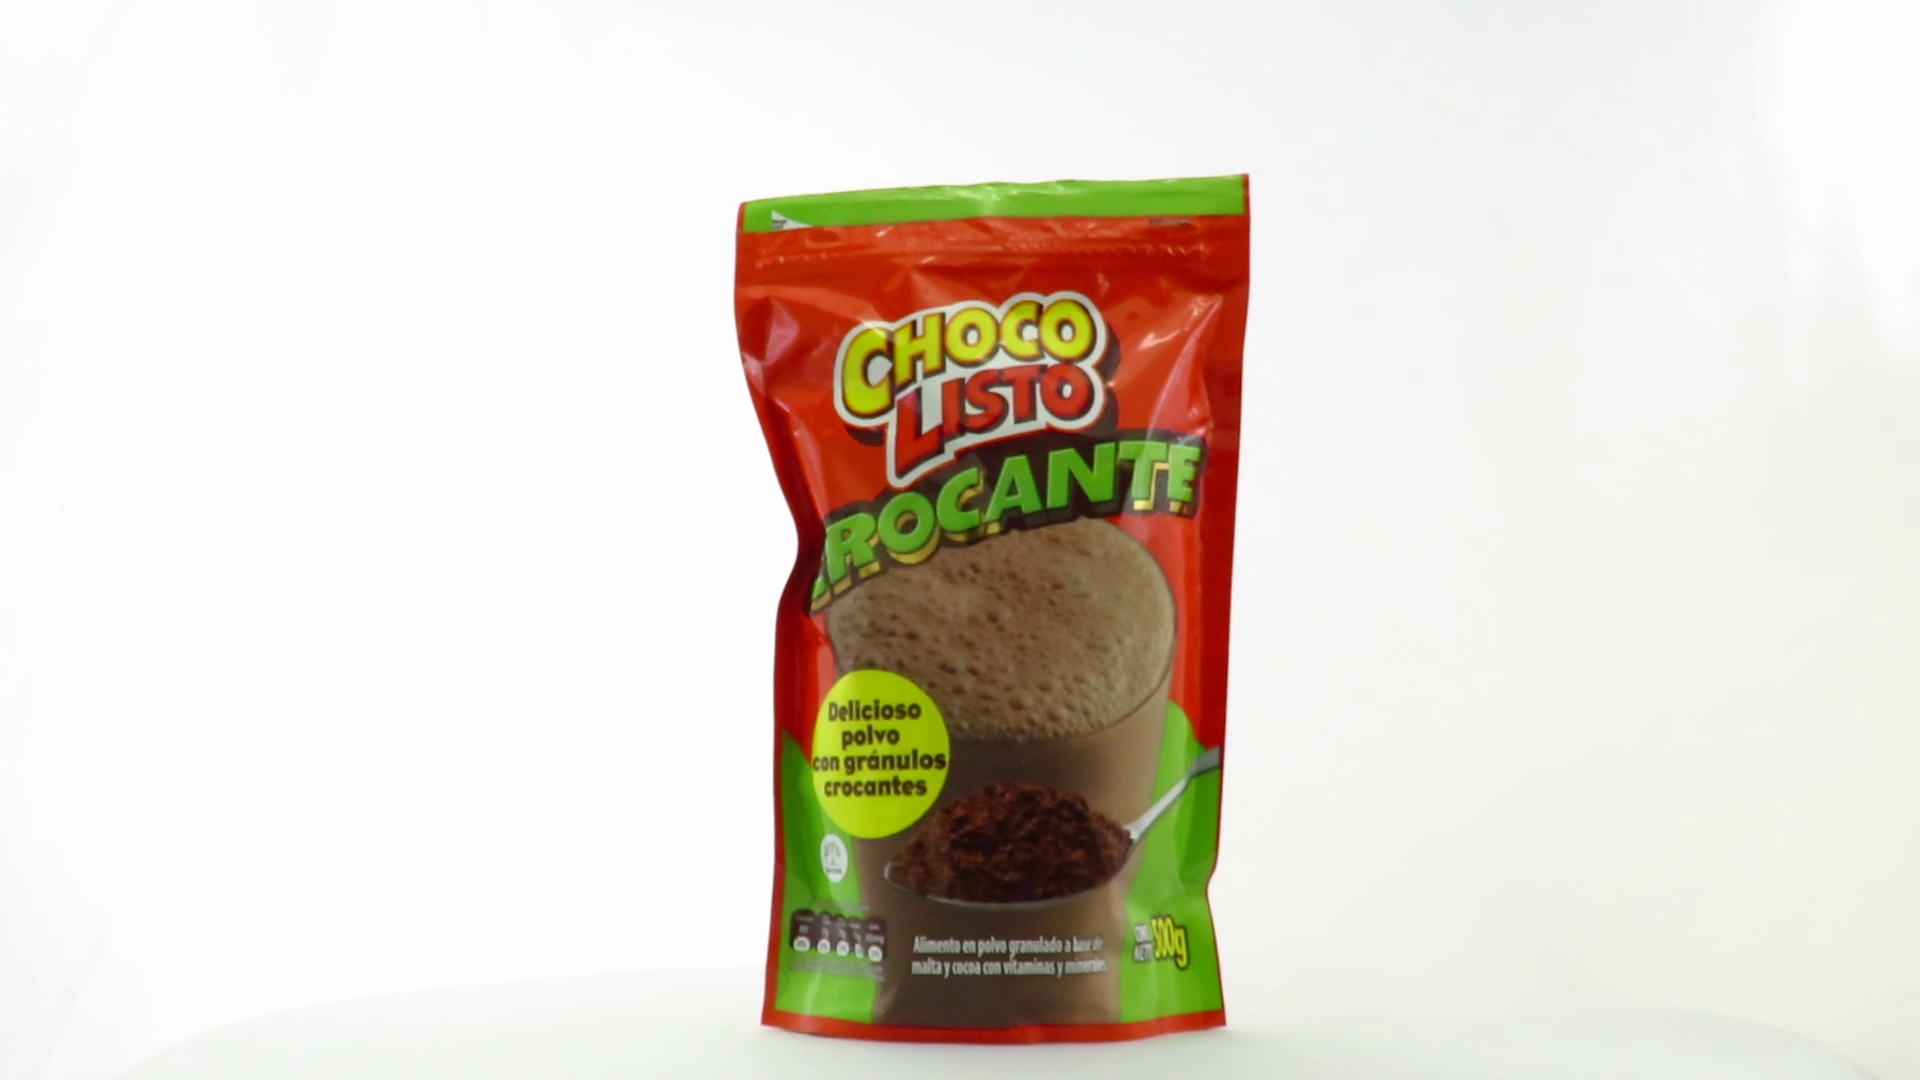COL0170102DYP50000: (729, 167, 1257, 1052)
